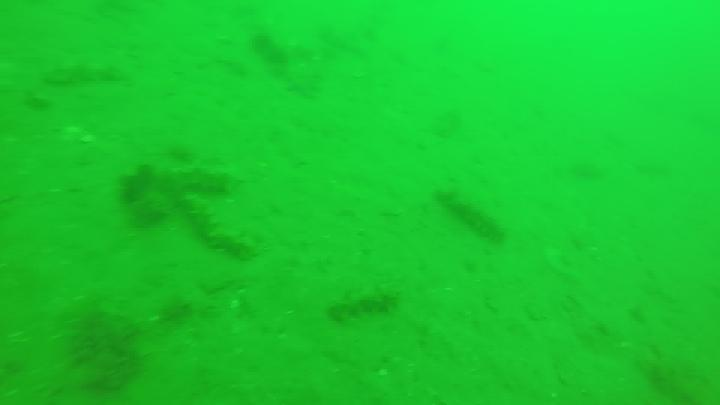holothurian: (181, 200, 254, 259), (435, 185, 510, 240), (126, 161, 243, 192), (323, 286, 398, 322)
